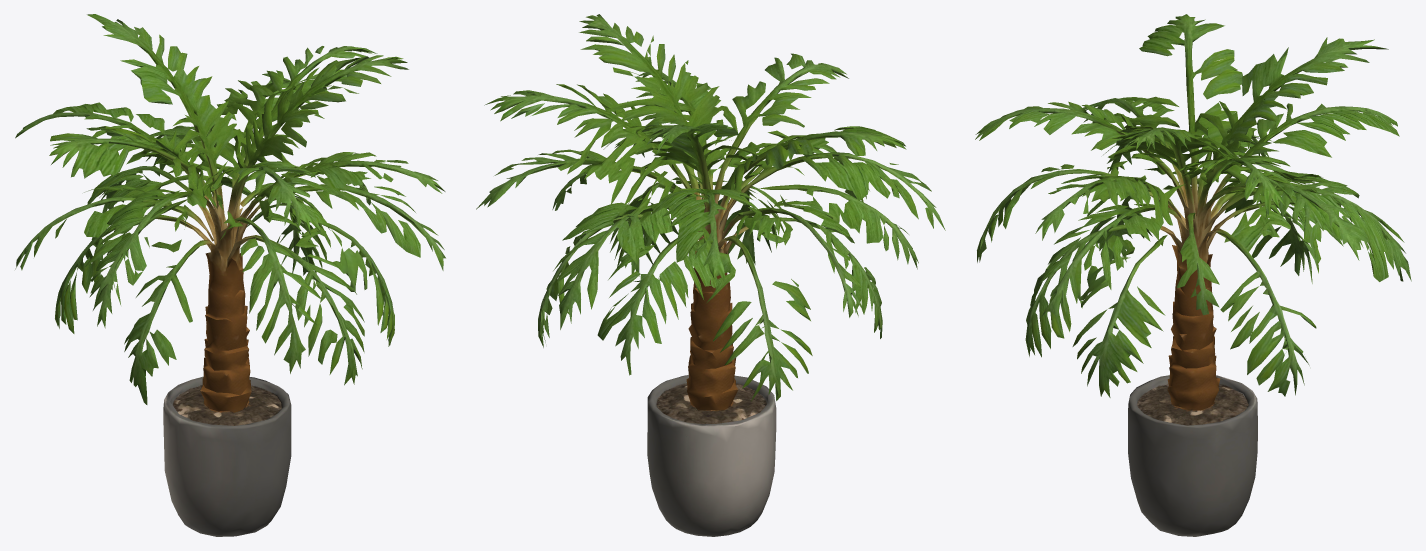
The model's file is palme.glb.
3 views of the same model, side by side, from view 1: azimuth 30°, elevation 25°; view 2: azimuth 150°, elevation 25°; view 3: azimuth 270°, elevation 25° (orthographic).
Visible parts, largest first — view 1: world; view 2: world; view 3: world.
Part boxes in pixels (x1=…): world: x1=15, y1=14, x2=445, y2=536; world: x1=476, y1=14, x2=945, y2=536; world: x1=975, y1=14, x2=1411, y2=536.
Bounding box in the file's own units: 0.8629 × 1 × 0.8658.
Materials: 1 (1 with a texture image).
